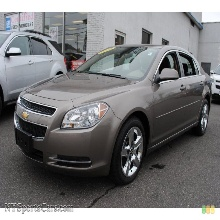no damage: (12, 43, 213, 184), (1, 31, 68, 114)
